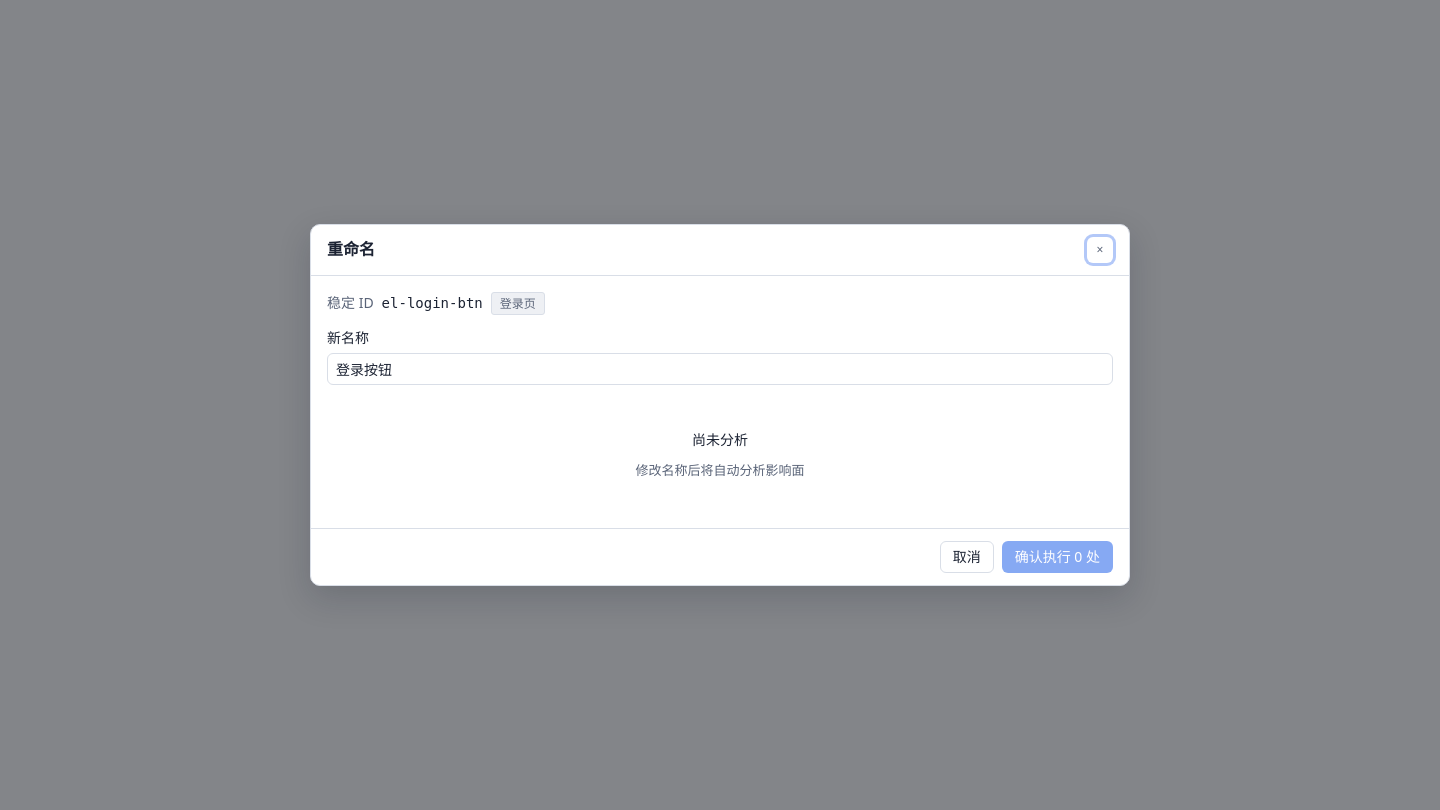
Test case: RenameDialog › 改名后自动分析影响面，展示勾选数与三级分布
Replace the text in the field labelled "新名称" with "登录提交" at x=720, y=369, box [336, 354, 1104, 384]
(page scrolled)
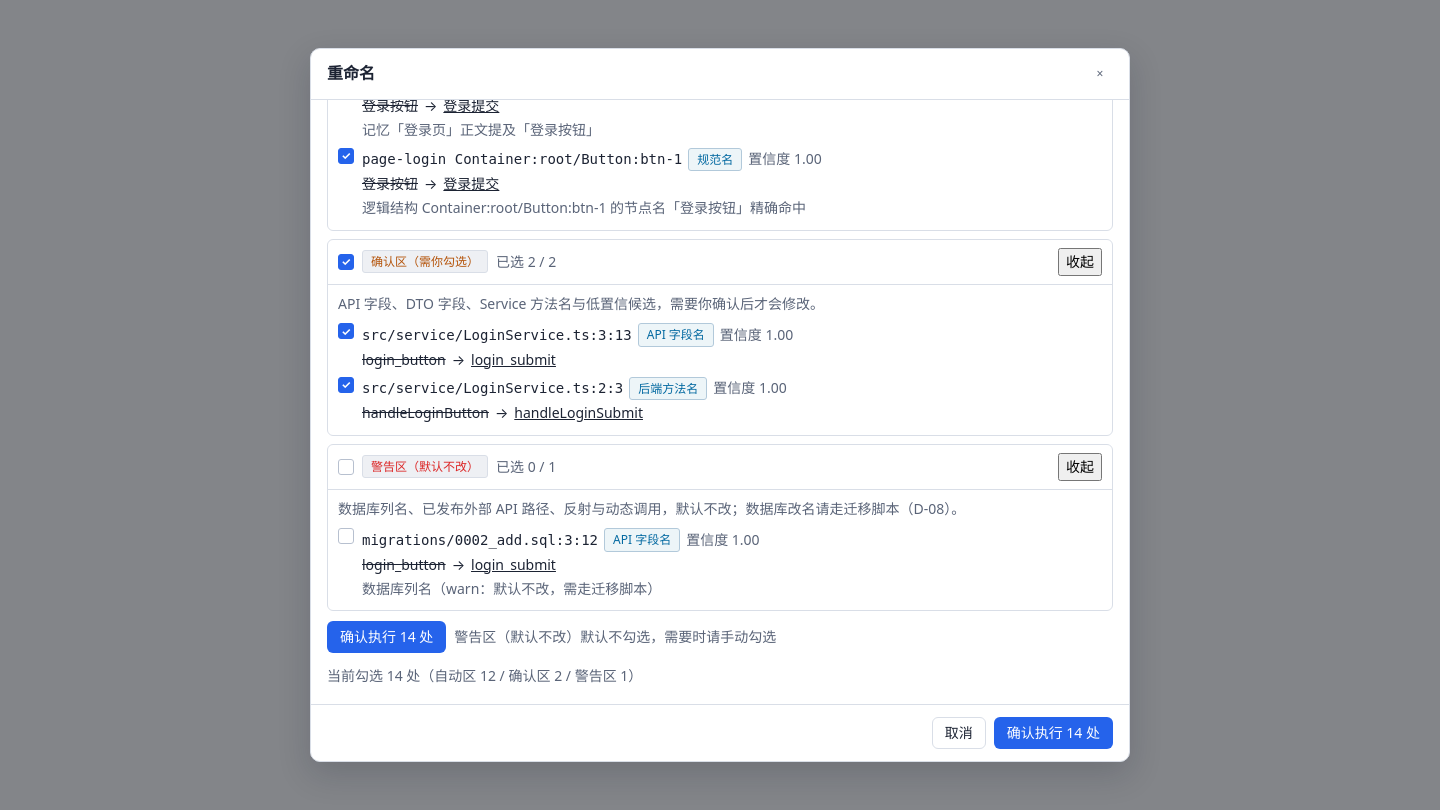
Now the text with test id "rename-selection-count" shows "当前勾选", box [327, 666, 387, 685]
